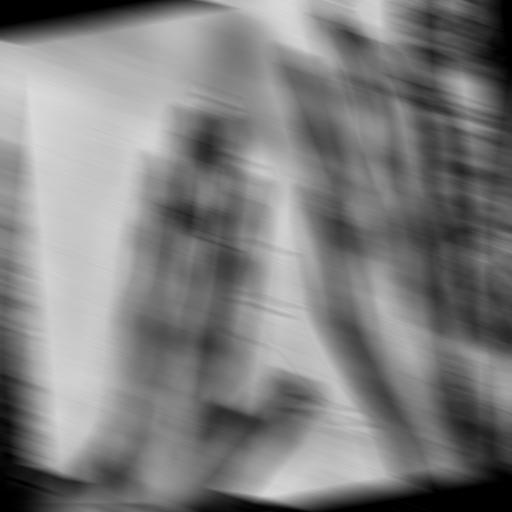bottom_left: (26, 461, 47, 479)
eiffel-tower: (81, 47, 379, 452)
top_right: (393, 0, 409, 5)
